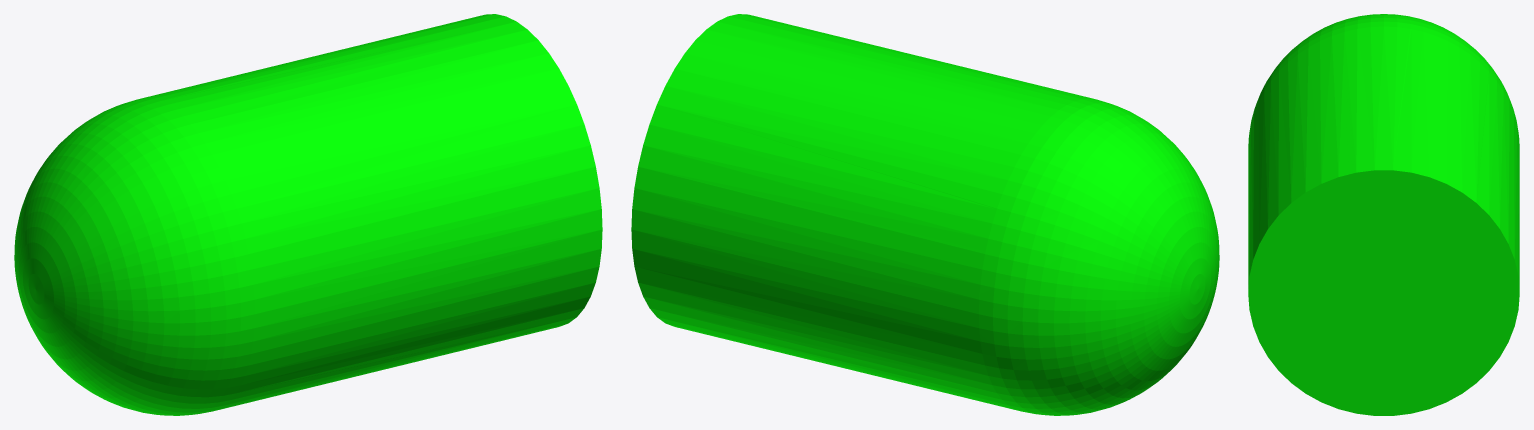
The model's file is zatana_terra_base_vis_60.dae.
The picture shows the model from 3 angles, left to right: view 1: azimuth 30°, elevation 25°; view 2: azimuth 150°, elevation 25°; view 3: azimuth 270°, elevation 25°; orthographic projection. The views are drawn at different scales.
Parts seen in each view (by area): view 1: Node_00000231837435E0; view 2: Node_00000231837435E0; view 3: Node_00000231837435E0.
Boxes of the visible parts, bbox=[...] form: Node_00000231837435E0: bbox=[14, 14, 602, 415]; Node_00000231837435E0: bbox=[631, 14, 1219, 415]; Node_00000231837435E0: bbox=[1248, 14, 1519, 415].
Bounding box in the file's own units: 0.0035 × 0.002 × 0.002.
